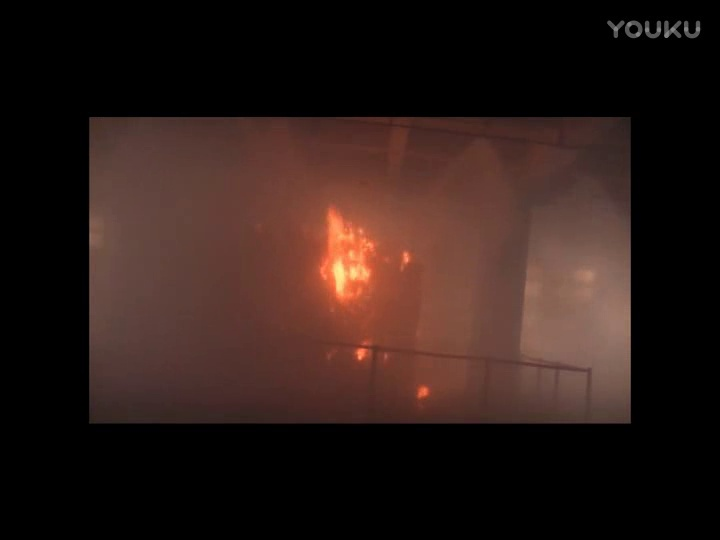fire: (323, 207, 376, 296)
